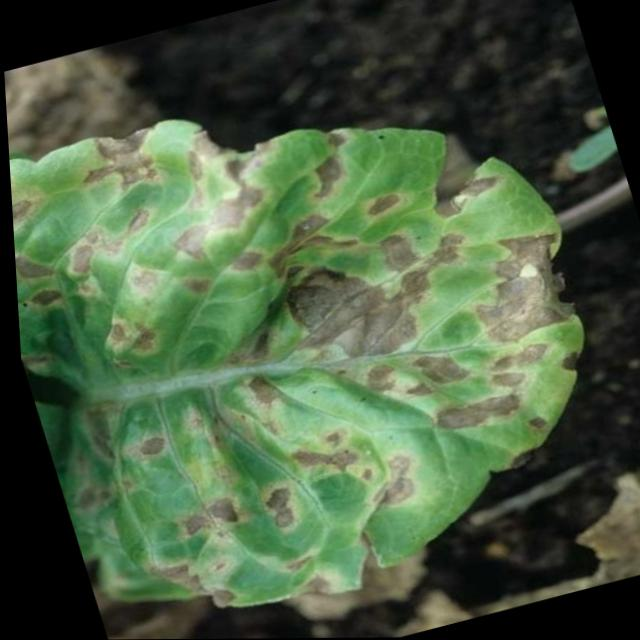Bad: (10, 120, 583, 607)
